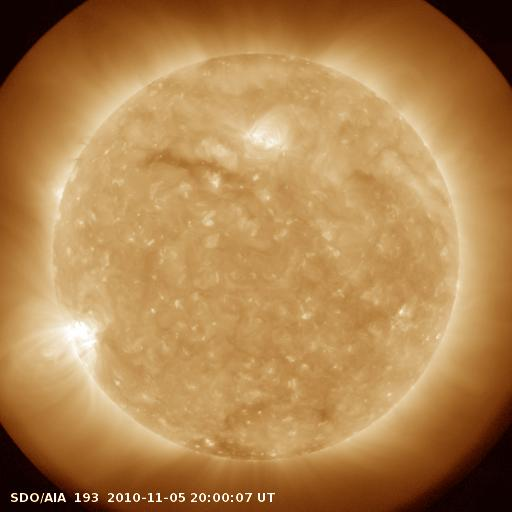coronal_hole: (139, 146, 236, 181)
